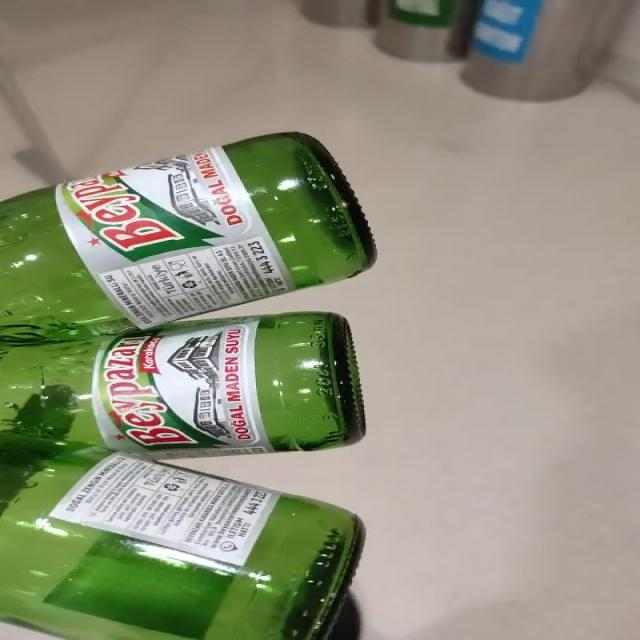glass: (1, 132, 375, 640)
